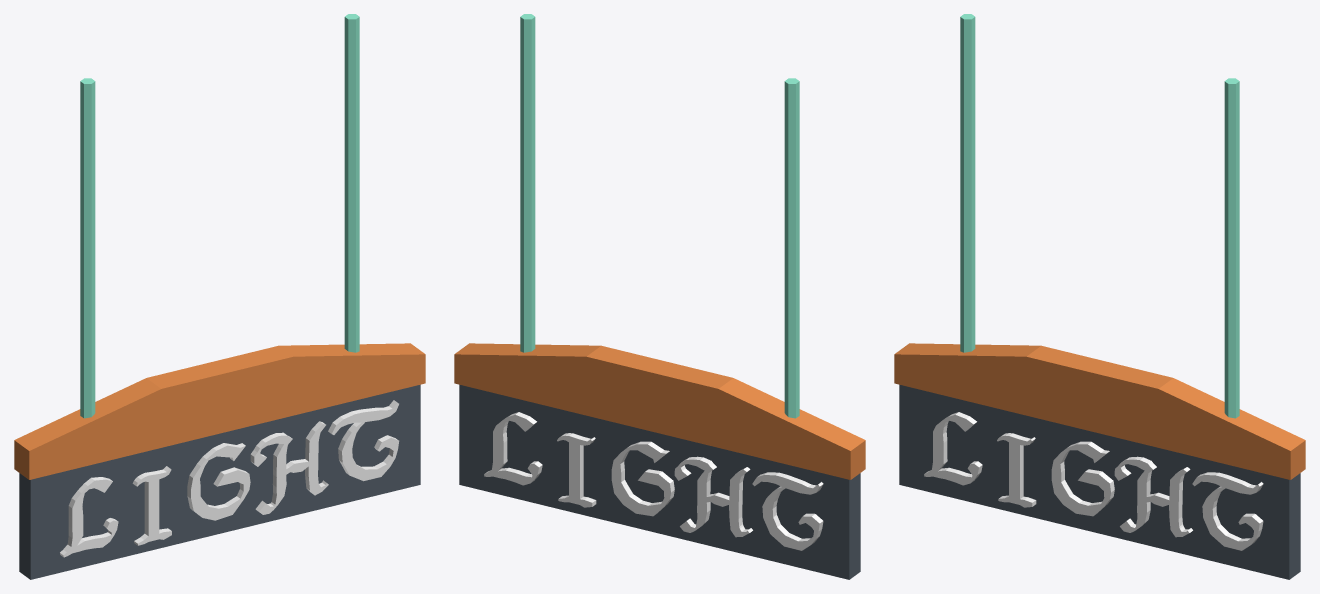
Rendered from StoreSigns.fbx_Light.fbx.
3 renders of one model, left to right at view 1: azimuth 30°, elevation 25°; view 2: azimuth 150°, elevation 25°; view 3: azimuth 330°, elevation 25°, orthographic.
Visible parts, largest first — view 1: Light; view 2: Light; view 3: Light.
Part boxes in pixels (x1,y1,x2,y2): Light: [14, 14, 425, 579]; Light: [454, 14, 865, 579]; Light: [894, 14, 1305, 579].
Size of the model in its own units: 52 by 610 by 705.
